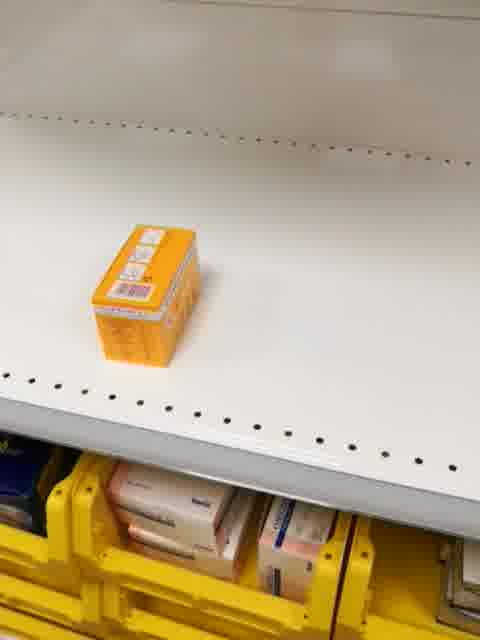jasminetea: (90, 222, 200, 369)
